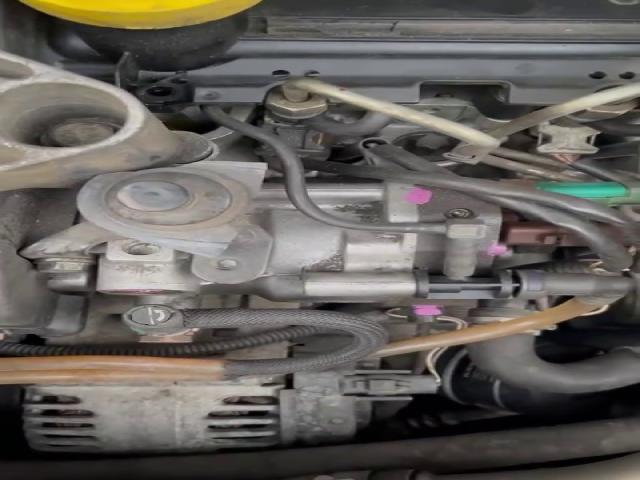alternator: (22, 376, 285, 452)
high_pressure_pump: (97, 182, 629, 301)
